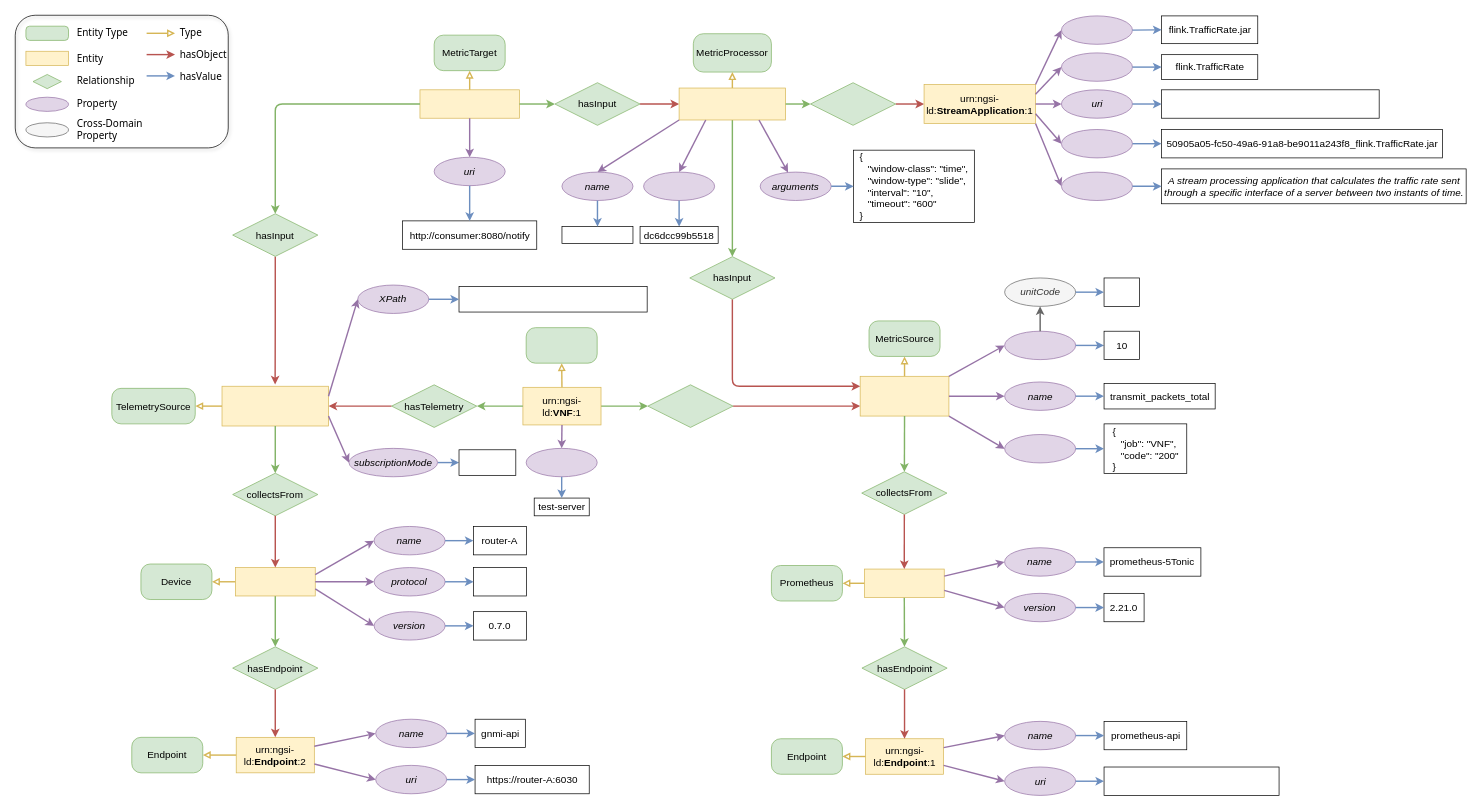
Some shapes in this 1479 by 808 pixel diagram are drawn without their labels. Here are the shapes that lost their labels. From the top down, the centre of each, then its label:
At (1096,29): "fileName".
At (1096,66): "entryClass".
At (469,103): "urn:ngsi-ld: MetricTarget :1".
At (732,103): "urn:ngsi-ld: MetricProcessor :1".
At (853,103): "hasApplication".
At (1270,103): "https://stream-catalog:8080 /flink.TrafficRate.jar".
At (1096,143): "fileId".
At (679,186): "jobId".
At (1096,186): "description".
At (597,235): "TrafficRate".
At (552,299): "/interfaces/interface/state/admin-status".
At (1121,291): "SEC".
At (561,345): "VNF".
At (1040,345): "interval".
At (275,406): "urn:ngsi-ld: Telemetry Source :1".
At (690,405): "hasMetrics".
At (904,396): "urn:ngsi-ld: MetricSource :1".
At (487,462): "on-change".
At (561,462): "descriptorId".
At (1040,448): "expression".
At (275,581): "urn:ngsi-ld: Device :1".
At (499,581): "gNMI".
At (904,582): "urn:ngsi-ld: Prometheus :1".
At (1191,780): "https://prometheus:9090 /api/v1/query".
